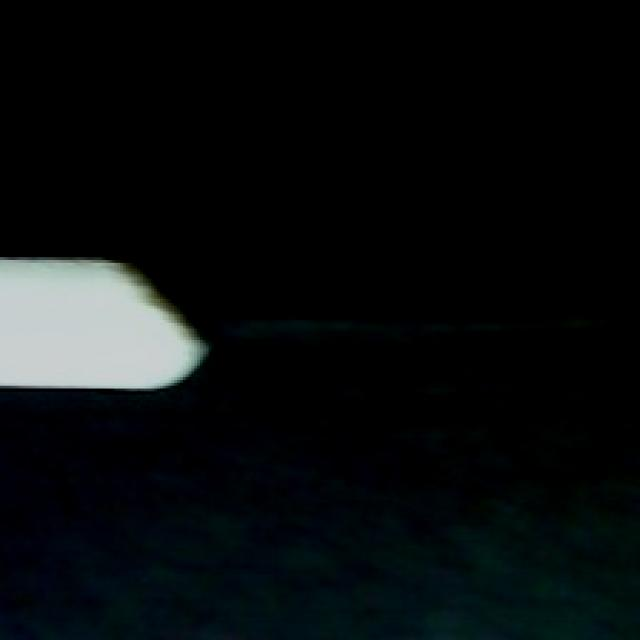defected: (0, 243, 217, 391)
